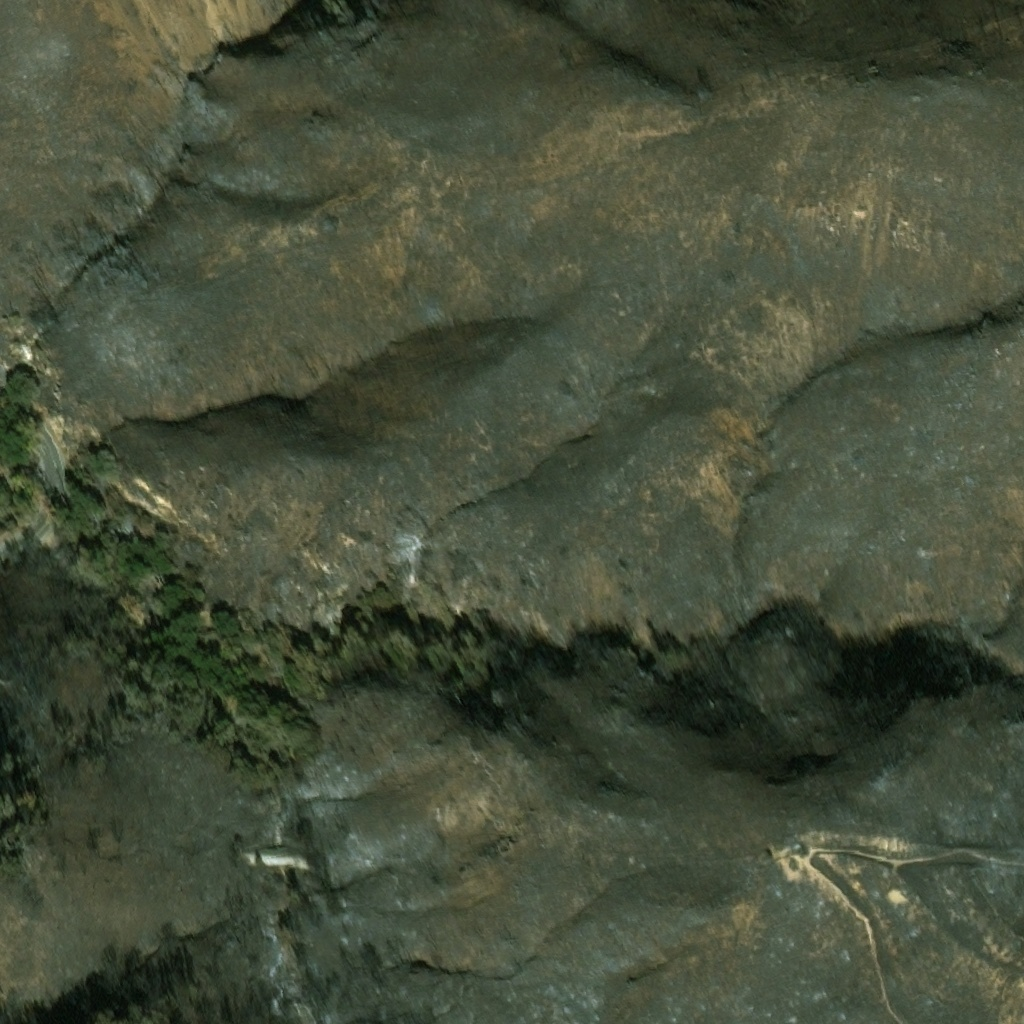4 un-classified: (247, 838, 304, 861)
